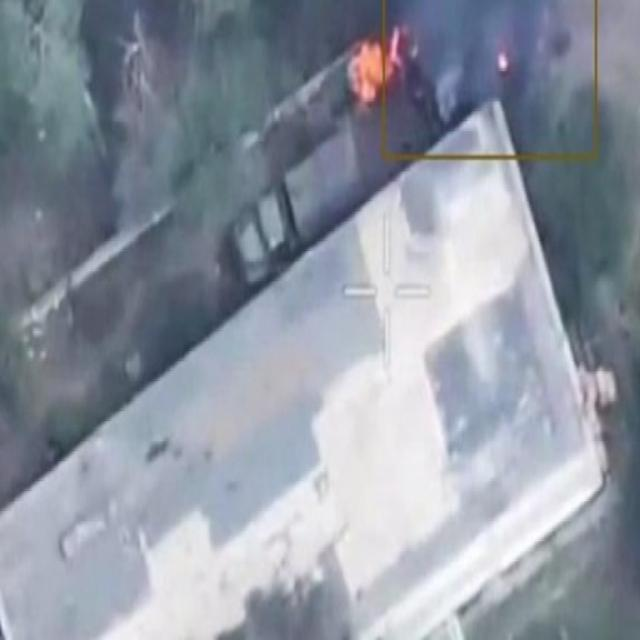TRUCK: (226, 122, 362, 294)
